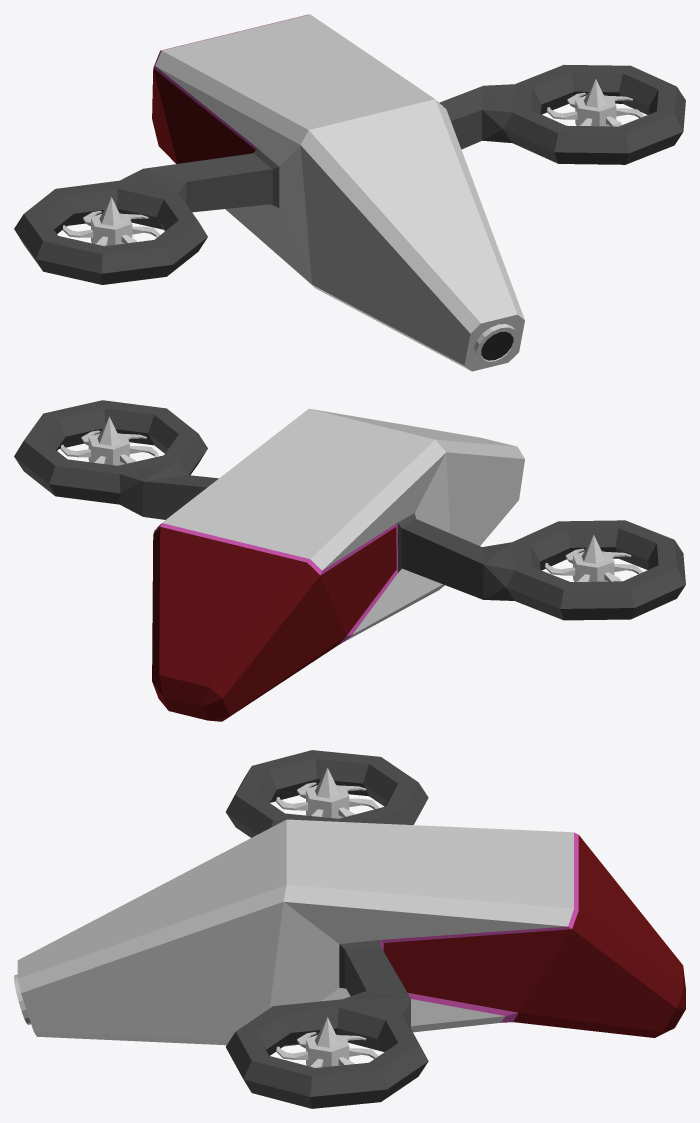
File: camera_drone.fbx
The picture shows the model from 3 angles, top to bottom: view 1: azimuth 30°, elevation 25°; view 2: azimuth 150°, elevation 25°; view 3: azimuth 270°, elevation 25°; orthographic projection. The views are drawn at different scales.
Parts seen in each view (by area): view 1: Cube, Cylinder.003, Cylinder.002; view 2: Cube, Cylinder.003, Cylinder.002; view 3: Cube, Cylinder.002, Cylinder.003.
Part boxes in pixels (x1=…): Cube: x1=14, y1=14, x2=685, y2=371; Cylinder.003: x1=547, y1=79, x2=643, y2=126; Cylinder.002: x1=62, y1=197, x2=159, y2=246; Cube: x1=14, y1=400, x2=685, y2=721; Cylinder.003: x1=61, y1=416, x2=158, y2=465; Cylinder.002: x1=545, y1=535, x2=642, y2=581; Cube: x1=14, y1=750, x2=685, y2=1108; Cylinder.002: x1=276, y1=767, x2=378, y2=818; Cylinder.003: x1=276, y1=1017, x2=378, y2=1067.
Size of the model in its own units: 282 by 68.89 by 239.
